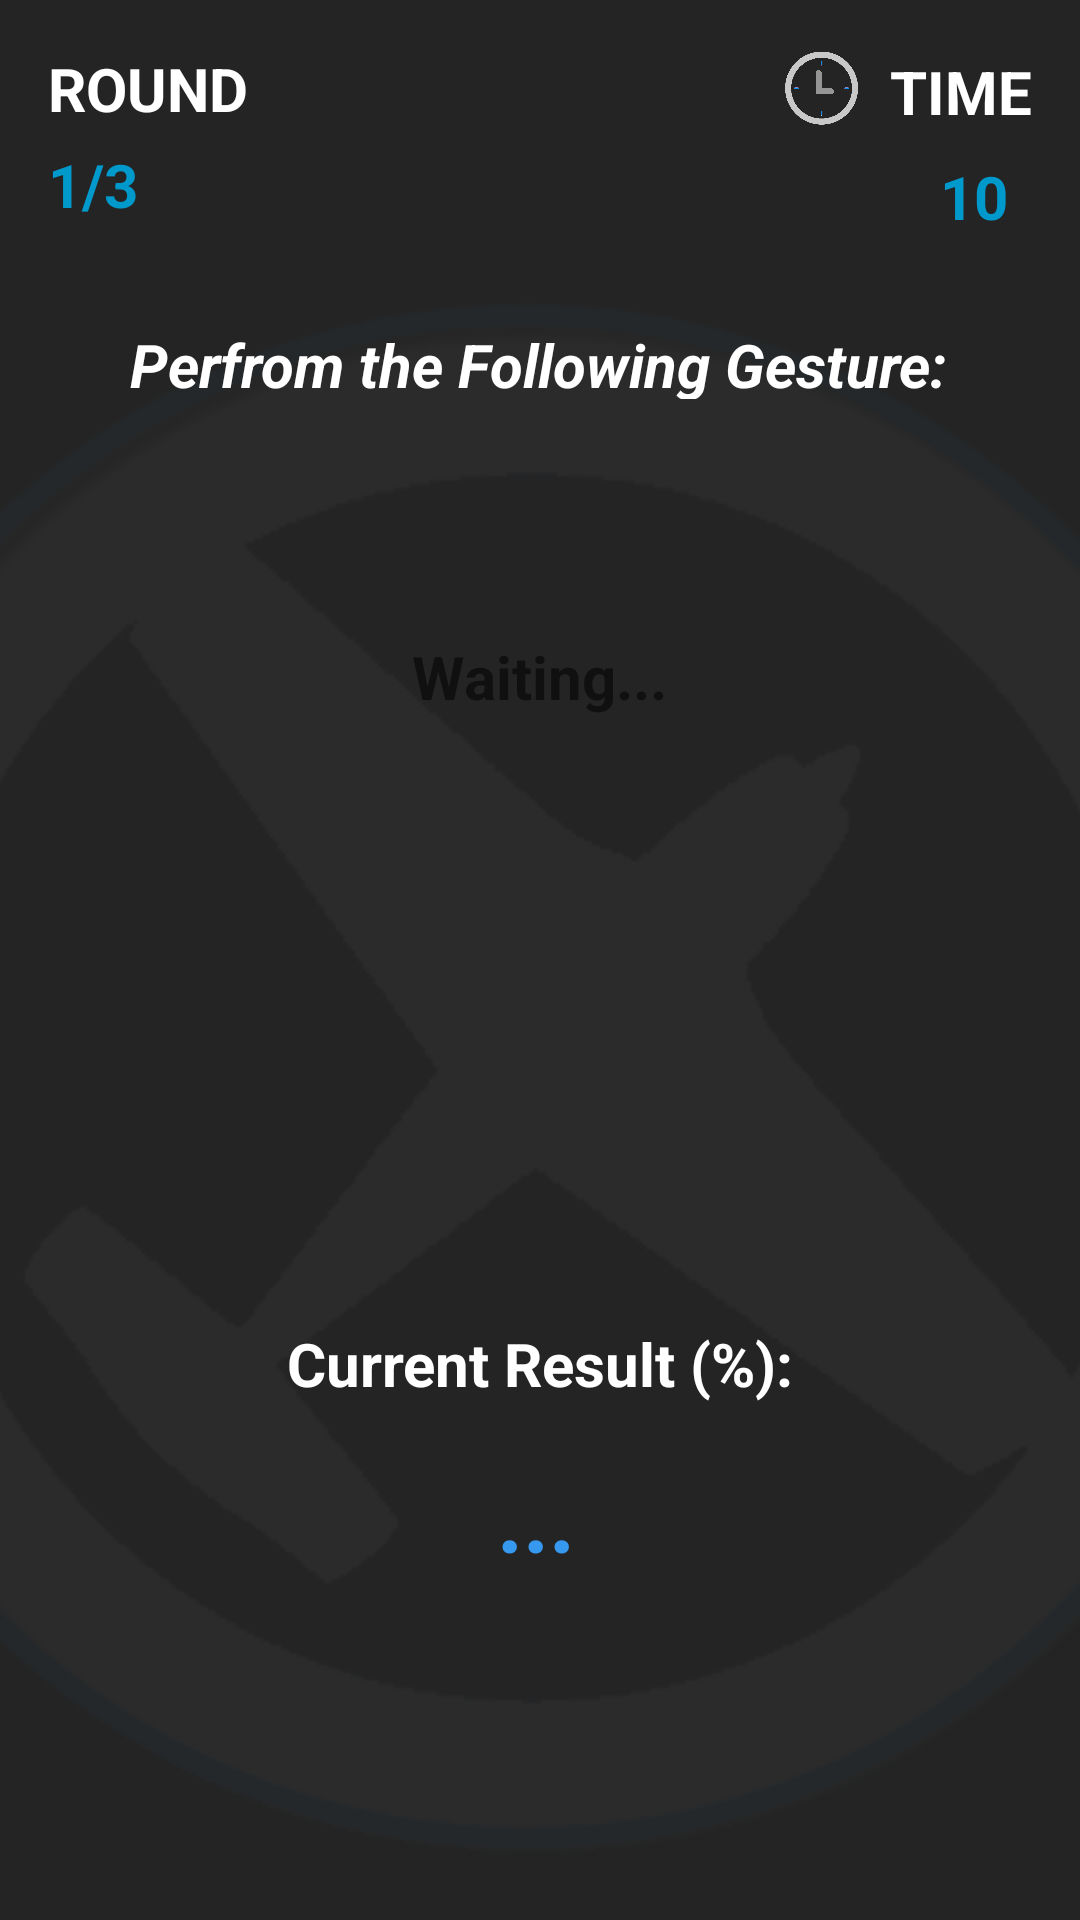

Where icons sit on this 1080x1920 app screen, as (x1, y1, x2, y2):
clock: (785, 52, 858, 125)
